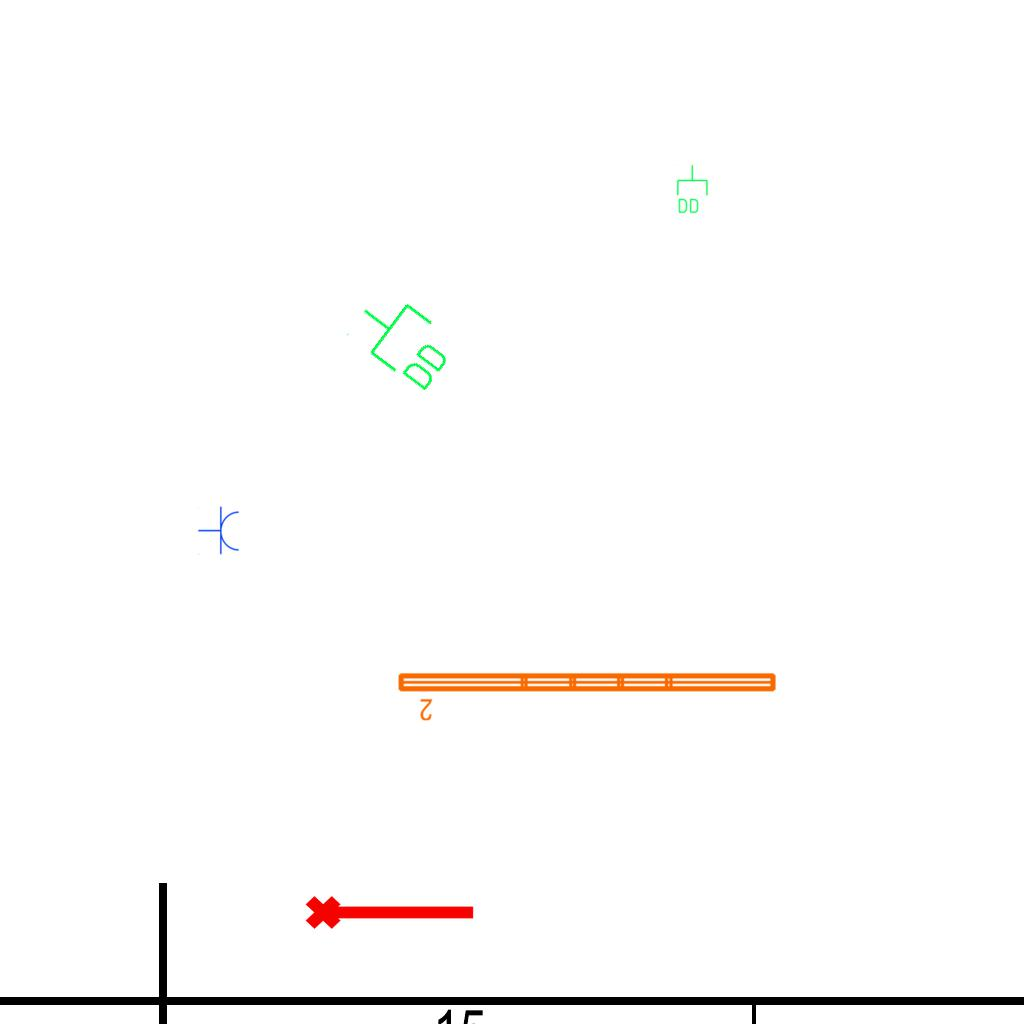ASR_Ansaugoeffnung: (303, 887, 479, 933)
Ambulanz_Pendelleuchte_LED: (394, 667, 781, 723)
Datenanschluss_zweifach: (341, 281, 466, 400), (675, 164, 709, 215)
Schukosteckdose_einfach: (198, 506, 241, 556)
